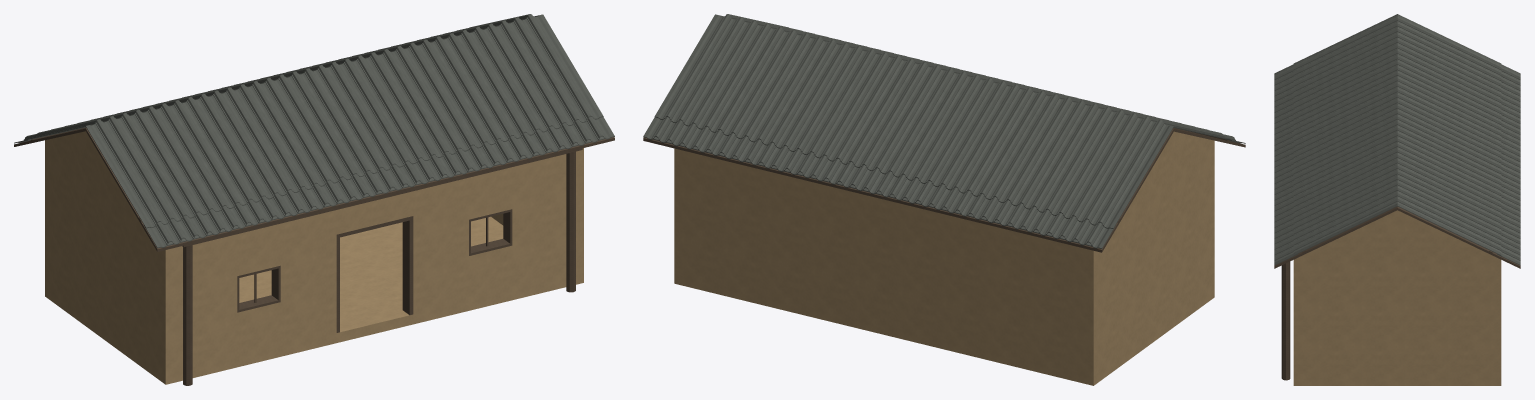
The picture shows the model from 3 angles, left to right: view 1: azimuth 30°, elevation 25°; view 2: azimuth 150°, elevation 25°; view 3: azimuth 270°, elevation 25°; orthographic projection. The views are drawn at different scales.
Parts seen in each view (by area): view 1: H96__LY_P01_earth, H96__LY_P01_tile, H96__LY_P01_timber; view 2: H96__LY_P01_earth, H96__LY_P01_tile, H96__LY_P01_timber; view 3: H96__LY_P01_tile, H96__LY_P01_earth, H96__LY_P01_timber.
Boxes of the visible parts, left/top/right/bottom form: H96__LY_P01_earth: left=45, top=131, right=583, bottom=384; H96__LY_P01_tile: left=14, top=14, right=614, bottom=248; H96__LY_P01_timber: left=14, top=127, right=614, bottom=385; H96__LY_P01_earth: left=674, top=131, right=1214, bottom=385; H96__LY_P01_tile: left=643, top=14, right=1245, bottom=248; H96__LY_P01_timber: left=643, top=128, right=1245, bottom=252; H96__LY_P01_tile: left=1274, top=14, right=1520, bottom=265; H96__LY_P01_earth: left=1293, top=210, right=1501, bottom=385; H96__LY_P01_timber: left=1274, top=206, right=1520, bottom=380.
Bounding box in the file's own units: 10.5 × 4.89 × 5.7.
Materials: 3 (3 with a texture image).
